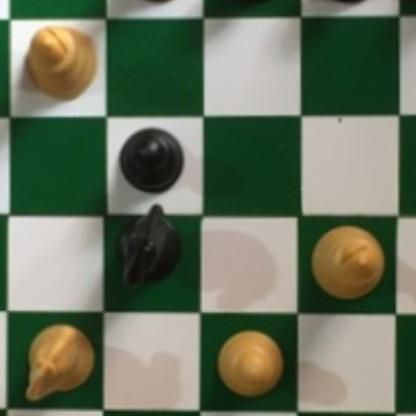black-knight: (109, 204, 186, 287)
black-pawn: (113, 119, 186, 196), (218, 0, 287, 8), (307, 0, 376, 4), (410, 0, 416, 6)
black-queen: (109, 0, 190, 3)
white-bishop: (301, 218, 386, 301), (18, 20, 99, 99)
white-knight: (20, 313, 97, 398)
white-pawn: (214, 329, 287, 404)
